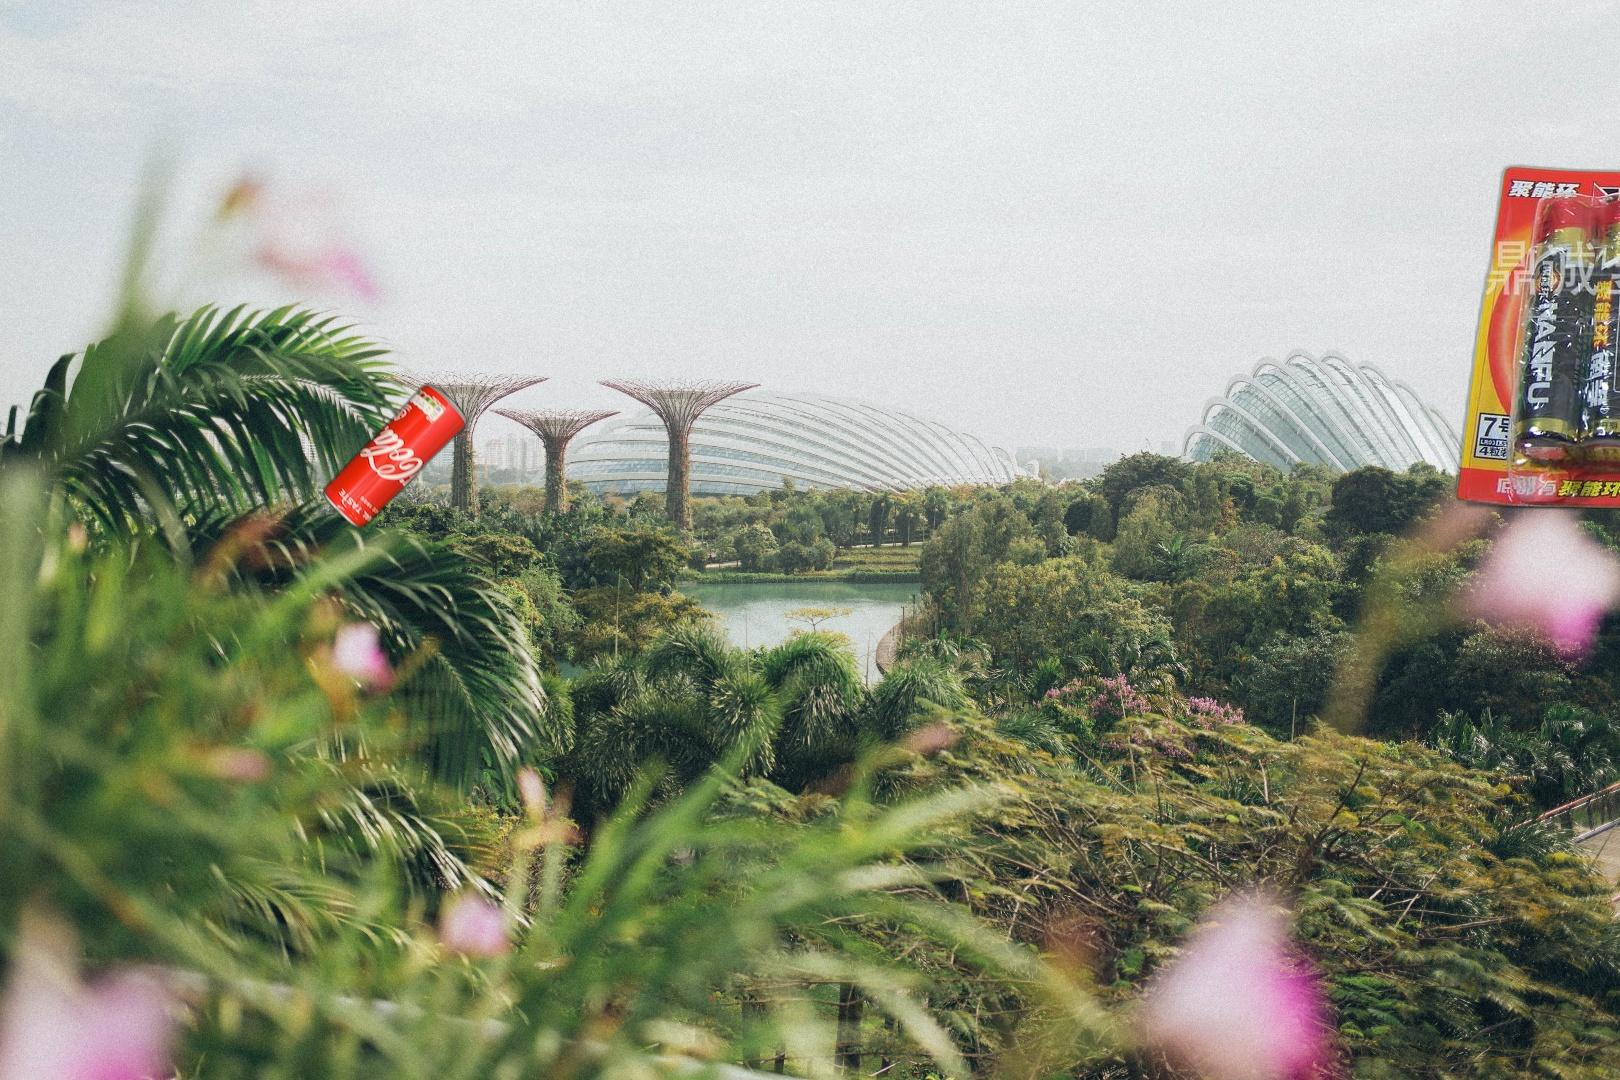battery: (1446, 160, 1620, 520)
metal-cans: (318, 378, 471, 535)
